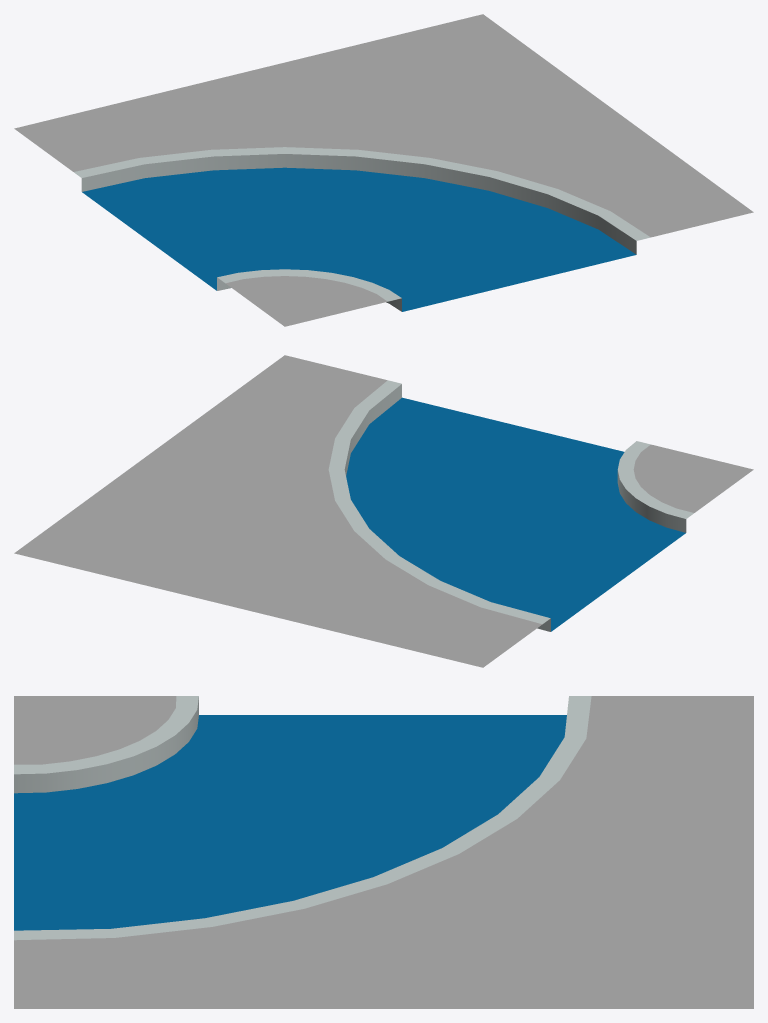
The model's file is Road_Turn_Narrow.fbx.
The picture shows the model from 3 angles, top to bottom: view 1: azimuth 30°, elevation 25°; view 2: azimuth 150°, elevation 25°; view 3: azimuth 270°, elevation 25°; orthographic projection. The views are drawn at different scales.
Visible parts, largest first — view 1: Road_Turn_Narrow; view 2: Road_Turn_Narrow; view 3: Road_Turn_Narrow.
Part boxes in pixels (left/top/right/bottom): Road_Turn_Narrow: left=14, top=14, right=753, bottom=326; Road_Turn_Narrow: left=14, top=355, right=753, bottom=667; Road_Turn_Narrow: left=14, top=696, right=753, bottom=1008.
Bounding box in the file's own units: 800 × 22.59 × 800.
